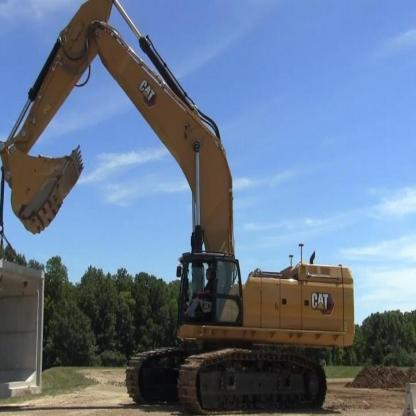excavator: (4, 4, 369, 415)
